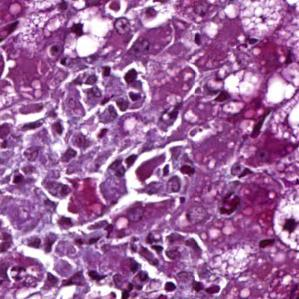ballooning: (58, 6, 120, 62), (238, 2, 289, 45), (209, 241, 257, 281)
